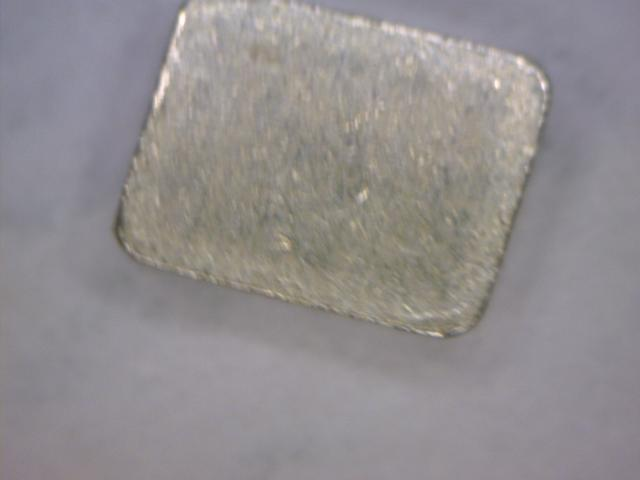ok: (108, 6, 564, 349)
